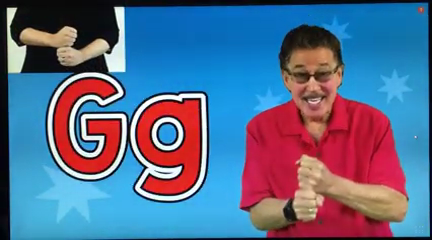G: (291, 153, 330, 223), (51, 23, 81, 67)
